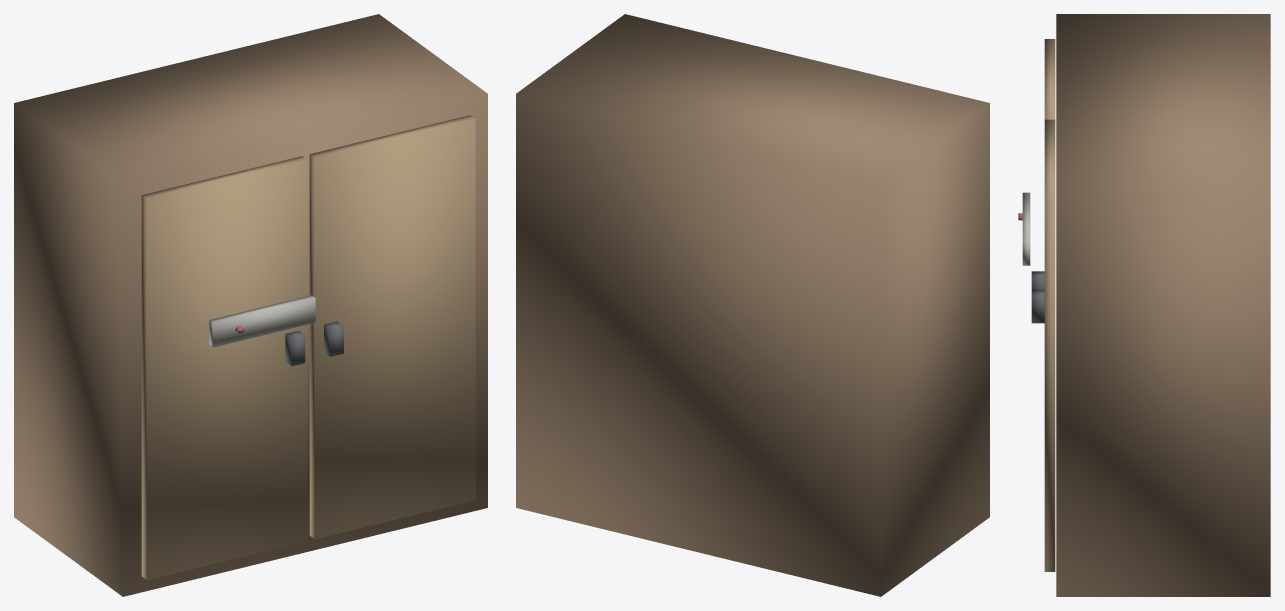
File: dental_instrument_cabinet__squat.glb
3 renders of one model, left to right at view 1: azimuth 30°, elevation 25°; view 2: azimuth 150°, elevation 25°; view 3: azimuth 270°, elevation 25°, orthographic.
Parts seen in each view (by area): view 1: world; view 2: world; view 3: world.
Boxes of the visible parts, <box> form: world: <box>14,14,487,596</box>; world: <box>516,14,989,596</box>; world: <box>1018,14,1270,596</box>.
Bounding box in the file's own units: 1.04 × 1.13 × 0.6356.
